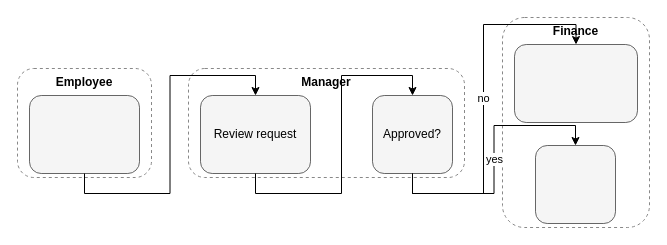
The diagram is 667 pixels wide and 245 high, and some of its shapes have lost their labels. Each missing label, with the centre of its shape:
"Create PO" goes at point 575,184.
"Notify rejection" goes at point 576,83.
"Submit request" goes at point 84,134.
